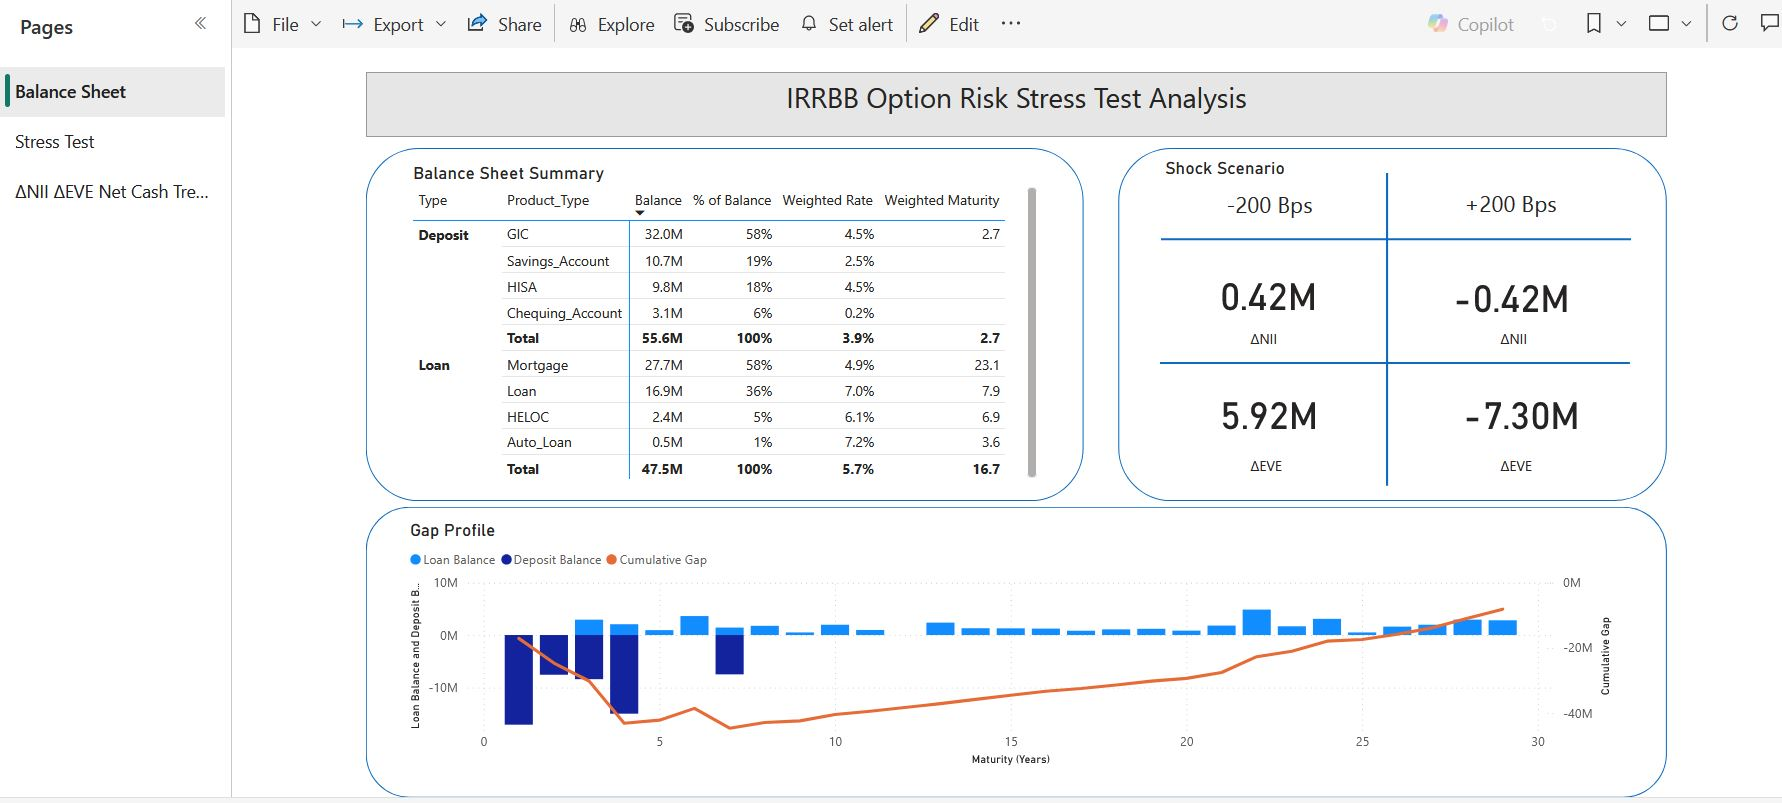

This screenshot's page, from the dashboard's own definition file:
{"tool":"powerbi","page":{"name":"Balance Sheet","canvas":[1280,720],"ordinal":0},"visuals":[{"type":"shape","box":[741.6,96,527.3,339.5],"z":0},{"type":"shape","box":[18.1,441,1250.8,279.7],"z":1000},{"type":"shape","box":[18.1,96,690.1,339.5],"z":2000},{"type":"pivotTable","title":"Balance Sheet Summary","fields":{"Rows":["Balance_sheet.Type","Balance_sheet.Product_Type"],"Values":["Sum(Balance_sheet.Balance)","Balance_sheet.% of Balance","Balance_sheet.Weighted Rate","Balance_sheet.Weighted Maturity"]},"box":[58.4,109.9,609.4,310.3],"z":3000},{"type":"lineStackedColumnComboChart","title":"Gap Profile","fields":{"Category":["Balance_sheet_adjusted.Maturity_Adjusted"],"Y":["Sum(Balance_sheet_adjusted.Loan_balance)","Sum(Balance_sheet_adjusted.Deposit_Balance_Adjusted)"],"Y2":["Balance_sheet_adjusted.Cumulative Gap"]},"box":[55.7,453.6,1165.9,242.1],"z":4000},{"type":"textbox","box":[18.1,22.3,1250.8,62.6],"z":5000},{"type":"shape","box":[780.5,153,452.2,300.5],"z":6000},{"type":"shape","box":[850.1,119.7,300.5,300.5],"z":7000},{"type":"shape","box":[781.9,33.4,452.2,300.5],"z":8000},{"type":"textbox","box":[780.5,100.2,136.3,41.7],"z":8500},{"type":"textbox","box":[834.8,130.8,103,43.1],"z":9000},{"type":"textbox","box":[1067.1,129.4,103,43.1],"z":10000},{"type":"card","fields":{"Values":["Stress_Test_Output.Delta NII (-200)"]},"box":[813.9,199,144.7,73.7],"z":10001},{"type":"card","fields":{"Values":["Stress_Test_Output.Delta NII (+200)"]},"box":[1046.3,200.3,144.7,73.7],"z":10002},{"type":"card","fields":{"Values":["Stress_Test_Output.Delta EvE (-200)"]},"box":[813.9,313,144.7,73.7],"z":10003},{"type":"card","fields":{"Values":["Stress_Test_Output.Delta EvE (+200)"]},"box":[1056,313,144.7,73.7],"z":10004},{"type":"textbox","box":[862.6,265.7,47.3,30.6],"z":10005},{"type":"textbox","box":[1103.3,265.7,47.3,30.6],"z":10006},{"type":"textbox","box":[862.6,386.8,47.3,30.6],"z":10007},{"type":"textbox","box":[1103.3,386.8,47.3,30.6],"z":10008}]}

Visuals, with their boxes on the page's 1280x720 design canvas (x1, y1, x2, y2). These are canvas units, not pixel positions in the 1782x803 screenshot, which may show the page scaled, cropped or inside an application window:
shape: l=742, t=96, r=1269, b=436
shape: l=18, t=441, r=1269, b=721
shape: l=18, t=96, r=708, b=436
"Balance Sheet Summary" pivotTable: l=58, t=110, r=668, b=420
"Gap Profile" lineStackedColumnComboChart: l=56, t=454, r=1222, b=696
textbox: l=18, t=22, r=1269, b=85
shape: l=780, t=153, r=1233, b=454
shape: l=850, t=120, r=1151, b=420
shape: l=782, t=33, r=1234, b=334
textbox: l=780, t=100, r=917, b=142
textbox: l=835, t=131, r=938, b=174
textbox: l=1067, t=129, r=1170, b=172
card - Stress_Test_Output.Delta NII (-200): l=814, t=199, r=959, b=273
card - Stress_Test_Output.Delta NII (+200): l=1046, t=200, r=1191, b=274
card - Stress_Test_Output.Delta EvE (-200): l=814, t=313, r=959, b=387
card - Stress_Test_Output.Delta EvE (+200): l=1056, t=313, r=1201, b=387
textbox: l=863, t=266, r=910, b=296
textbox: l=1103, t=266, r=1151, b=296
textbox: l=863, t=387, r=910, b=417
textbox: l=1103, t=387, r=1151, b=417
